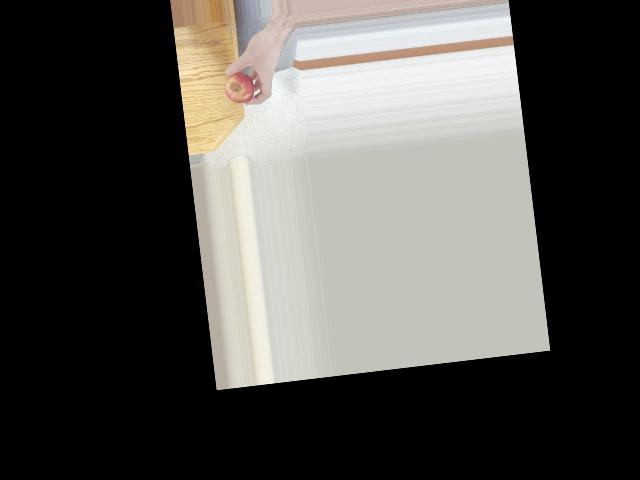apple: (222, 65, 258, 106)
